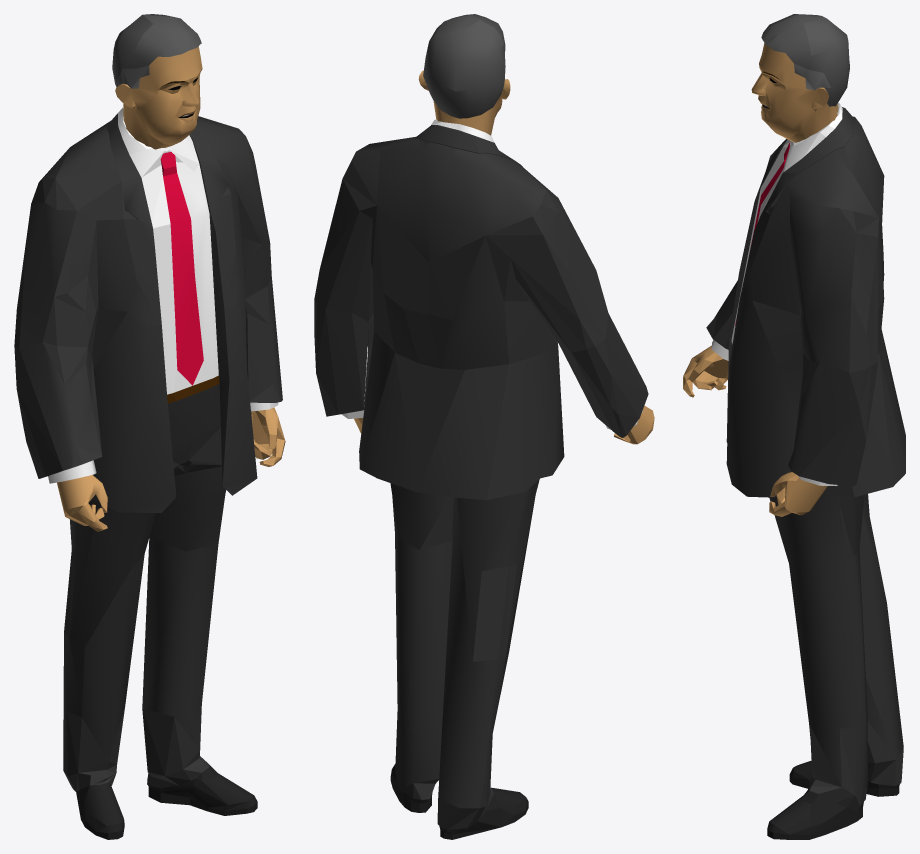
3 views of the same model, side by side, from view 1: azimuth 30°, elevation 25°; view 2: azimuth 150°, elevation 25°; view 3: azimuth 270°, elevation 25° (orthographic). The views are drawn at different scales.
Visible parts, largest first — view 1: SketchUp (×13); view 2: SketchUp (×7); view 3: SketchUp (×10).
Part boxes in pixels (x1,y1,x2,y2): SketchUp (×13): (14,14,285,839); SketchUp (×7): (314,14,654,839); SketchUp (×10): (683,14,905,839).
Bounding box in the file's own units: 27.16 × 19.46 × 75.92.
